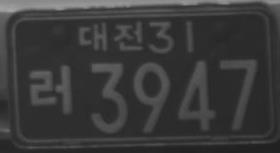1: (178, 19, 201, 54)
3: (88, 60, 129, 135), (145, 19, 175, 55)
4: (175, 58, 217, 133)
7: (218, 57, 260, 132)
9: (132, 60, 172, 135)
대전_O: (76, 19, 145, 53)
러: (28, 63, 74, 116)
